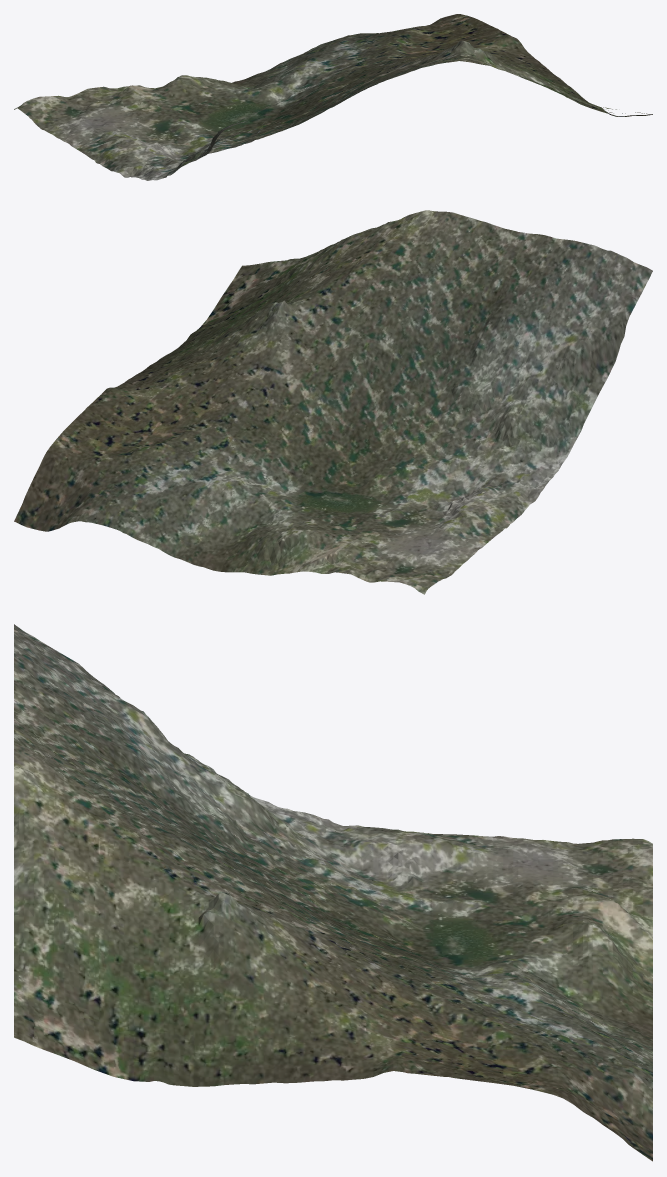
3 views of the same model, one above another, from view 1: azimuth 30°, elevation 25°; view 2: azimuth 150°, elevation 25°; view 3: azimuth 270°, elevation 25° (orthographic). The views are drawn at different scales.
Size of the model in its own units: 500 by 231 by 481.
Materials: 1 (1 with a texture image).
